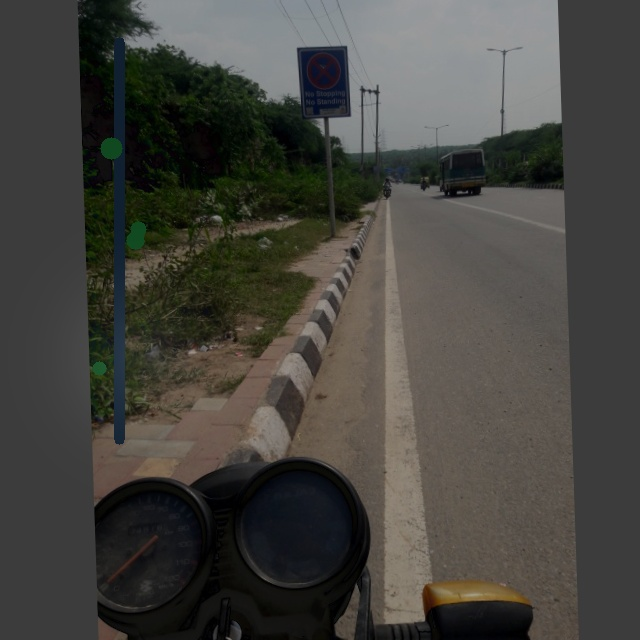No_Stopping_or_Standing: (299, 45, 346, 95)
